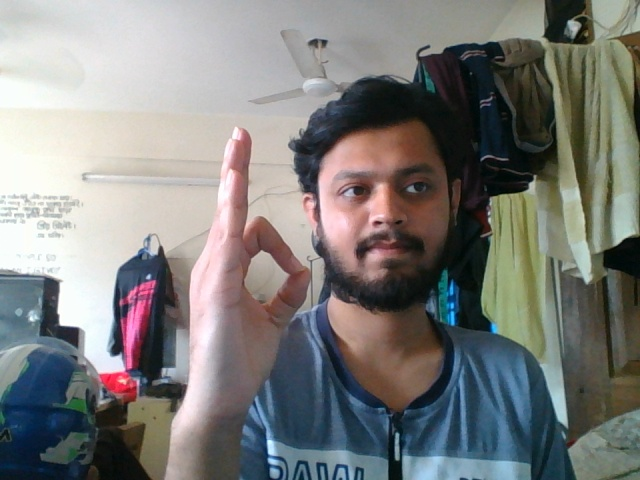ca: (168, 113, 328, 440)
